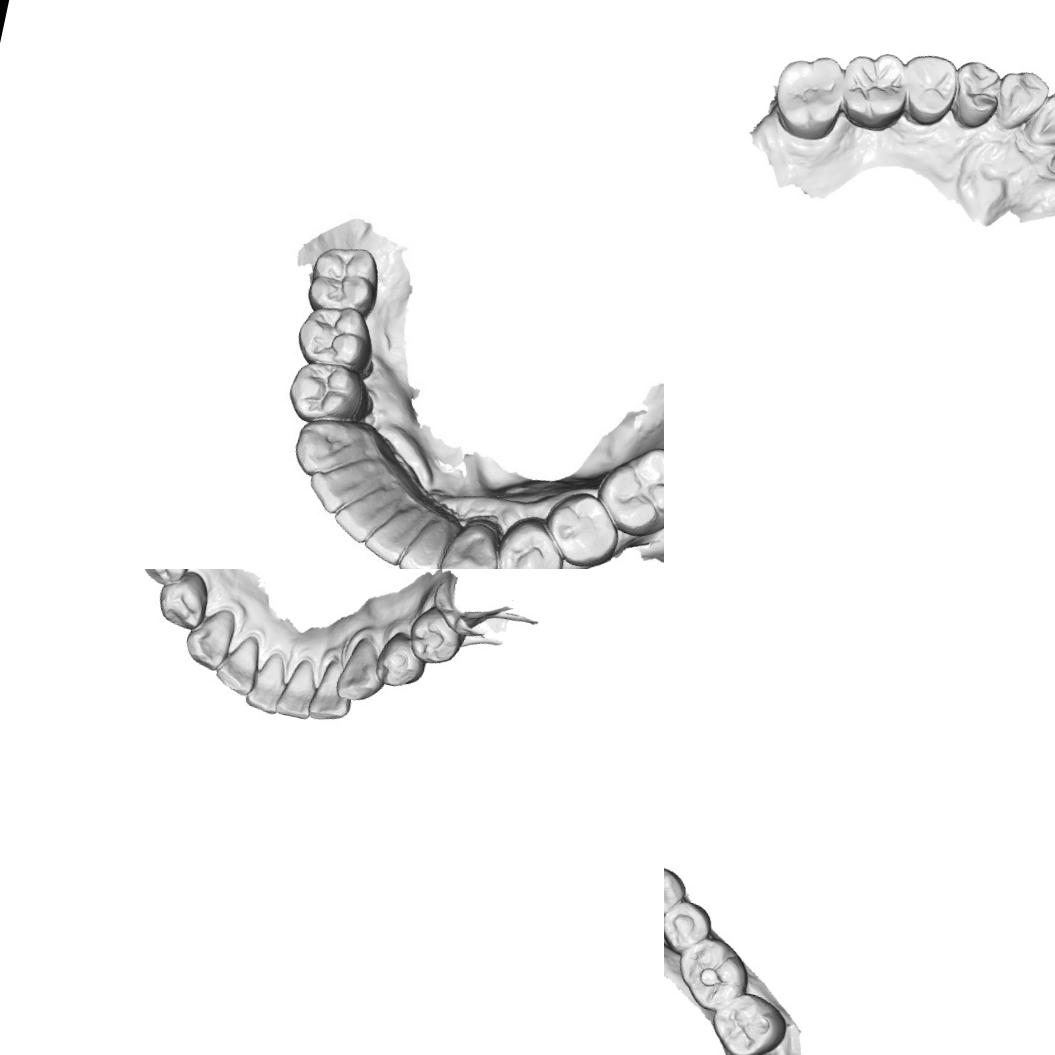canine: (282, 410, 389, 483), (435, 506, 515, 569), (988, 64, 1054, 138), (332, 632, 392, 708), (180, 600, 239, 676)
incisor: (307, 448, 391, 522), (336, 472, 406, 546), (366, 492, 433, 569), (305, 654, 360, 728), (211, 628, 266, 700), (399, 504, 457, 569), (242, 646, 291, 716), (273, 654, 322, 723), (1021, 85, 1055, 155)
molar: (763, 44, 852, 146), (585, 438, 664, 548), (669, 928, 757, 1018), (834, 42, 916, 137), (304, 238, 390, 321), (703, 984, 794, 1055)
premolar: (290, 296, 380, 379), (541, 484, 624, 569), (280, 352, 370, 427), (894, 48, 963, 132), (942, 57, 1007, 134), (492, 510, 574, 569), (402, 601, 470, 671), (152, 569, 214, 636), (370, 629, 432, 694), (664, 894, 718, 961), (664, 859, 690, 925), (134, 569, 200, 591)
